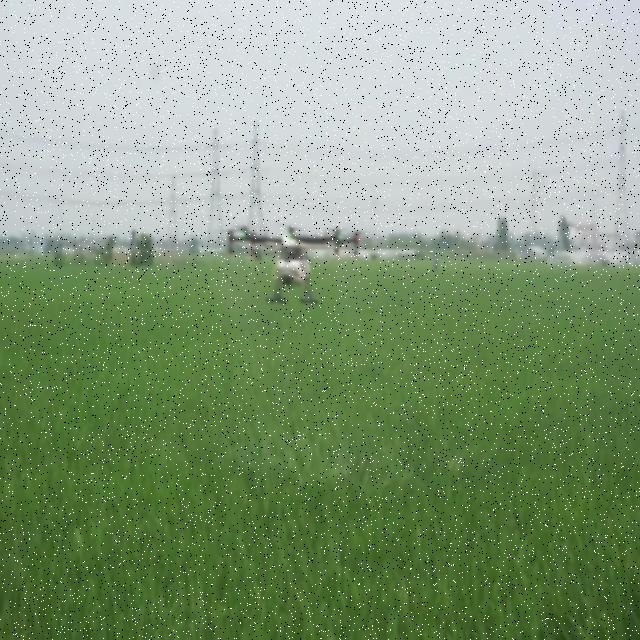UAV: (224, 224, 364, 305)
